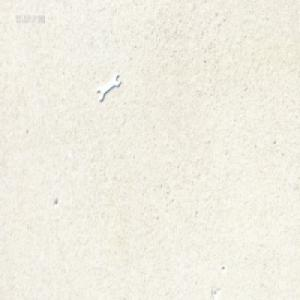Wrench: (96, 74, 119, 103)
